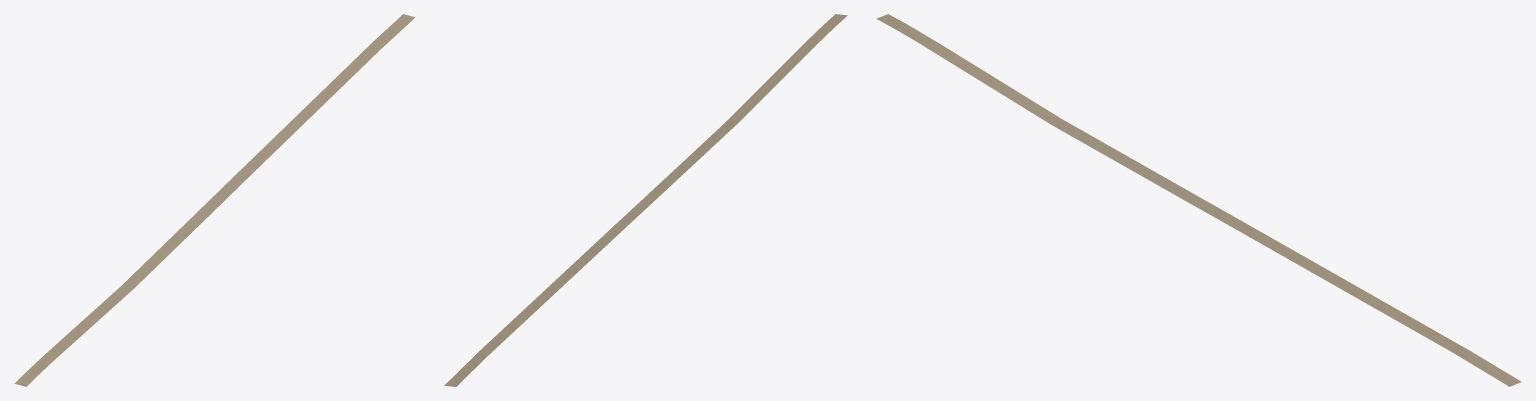
File: farm_8_16_track.glb
The picture shows the model from 3 angles, left to right: view 1: azimuth 30°, elevation 25°; view 2: azimuth 210°, elevation 25°; view 3: azimuth 270°, elevation 25°; orthographic projection. The views are drawn at different scales.
Visible parts, largest first — view 1: geometry_0; view 2: geometry_0; view 3: geometry_0.
Boxes of the visible parts, bbox=[...] form: geometry_0: bbox=[14, 14, 415, 386]; geometry_0: bbox=[444, 14, 847, 386]; geometry_0: bbox=[876, 14, 1521, 386].
Bounding box in the file's own units: 192 × 1.62 × 141.
